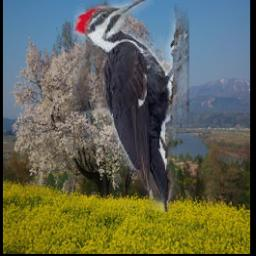Woodpecker: (73, 0, 189, 212)
